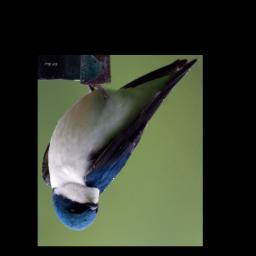Swallow: (41, 56, 199, 231)
